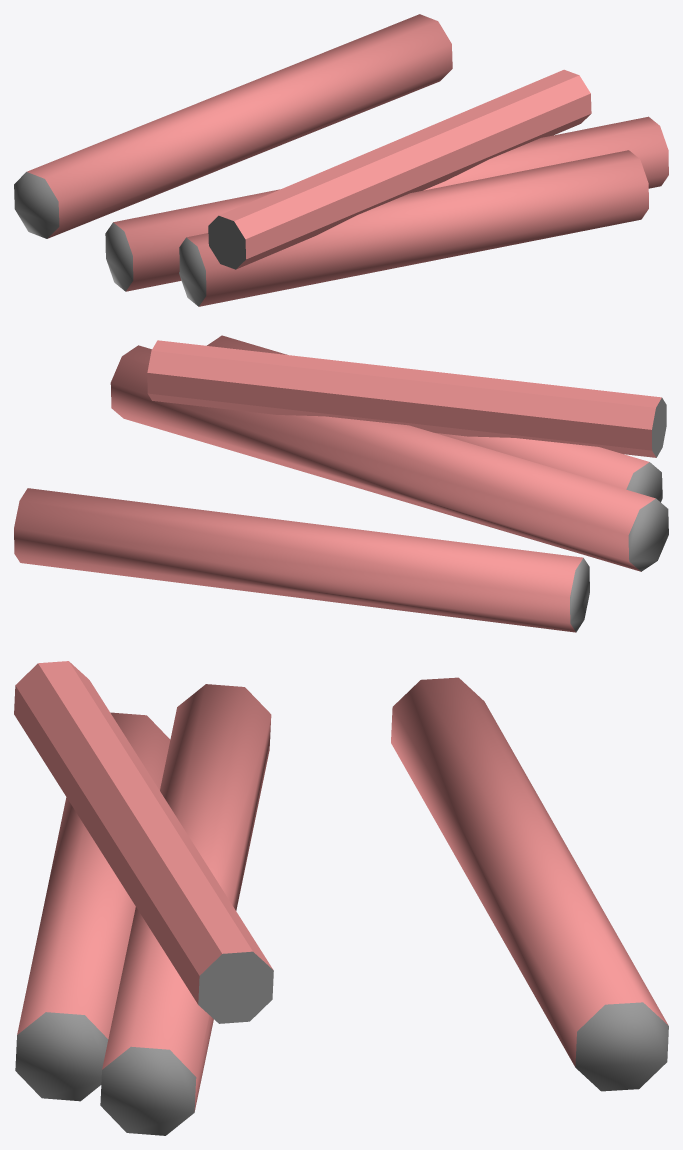
The model's file is Field_Deco_Artifact_S__world_obj15.gltf.
3 renders of one model, top to bottom at view 1: azimuth 30°, elevation 25°; view 2: azimuth 150°, elevation 25°; view 3: azimuth 270°, elevation 25°, orthographic. The views are drawn at different scales.
Visible parts, largest first — view 1: world_obj15; view 2: world_obj15; view 3: world_obj15.
Part boxes in pixels (x1=…): world_obj15: x1=14, y1=14, x2=668, y2=306; world_obj15: x1=14, y1=335, x2=668, y2=632; world_obj15: x1=14, y1=661, x2=668, y2=1135.
Size of the model in its own units: 1.5 by 0.2714 by 1.1.
